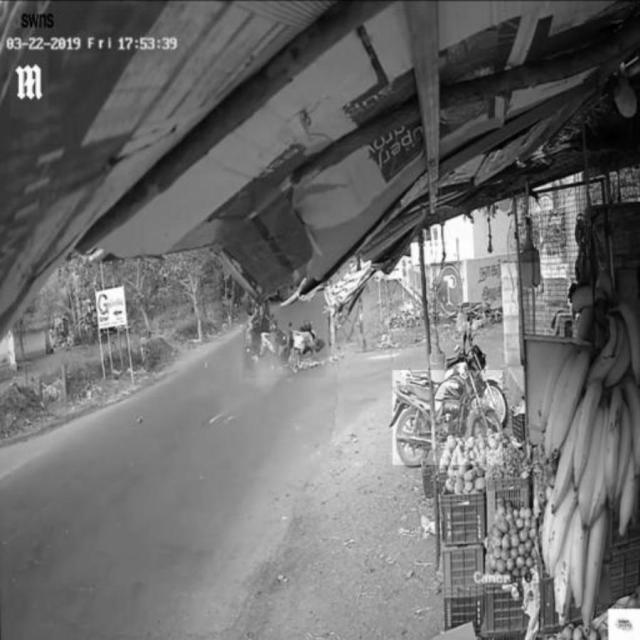accident: (243, 297, 326, 378)
vehicle: (393, 370, 503, 464)
